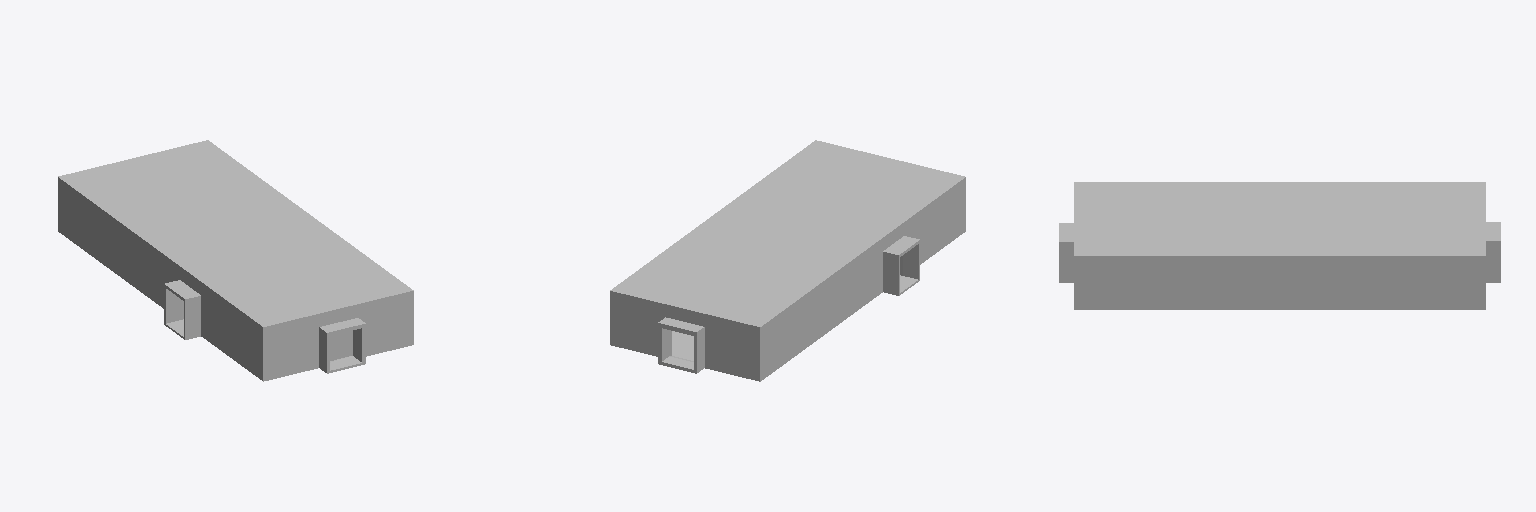
The model's file is RoomFive.obj.
The picture shows the model from 3 angles: view 1: azimuth 30°, elevation 25°; view 2: azimuth 150°, elevation 25°; view 3: azimuth 270°, elevation 25°; orthographic projection.
Visible parts, largest first — view 1: Cube; view 2: Cube; view 3: Cube.
Boxes of the visible parts, <box> form: Cube: <box>58,140,413,381</box>; Cube: <box>610,140,965,381</box>; Cube: <box>1059,182,1500,309</box>.
Bounding box in the file's own units: 8.89 × 2.08 × 15.28.